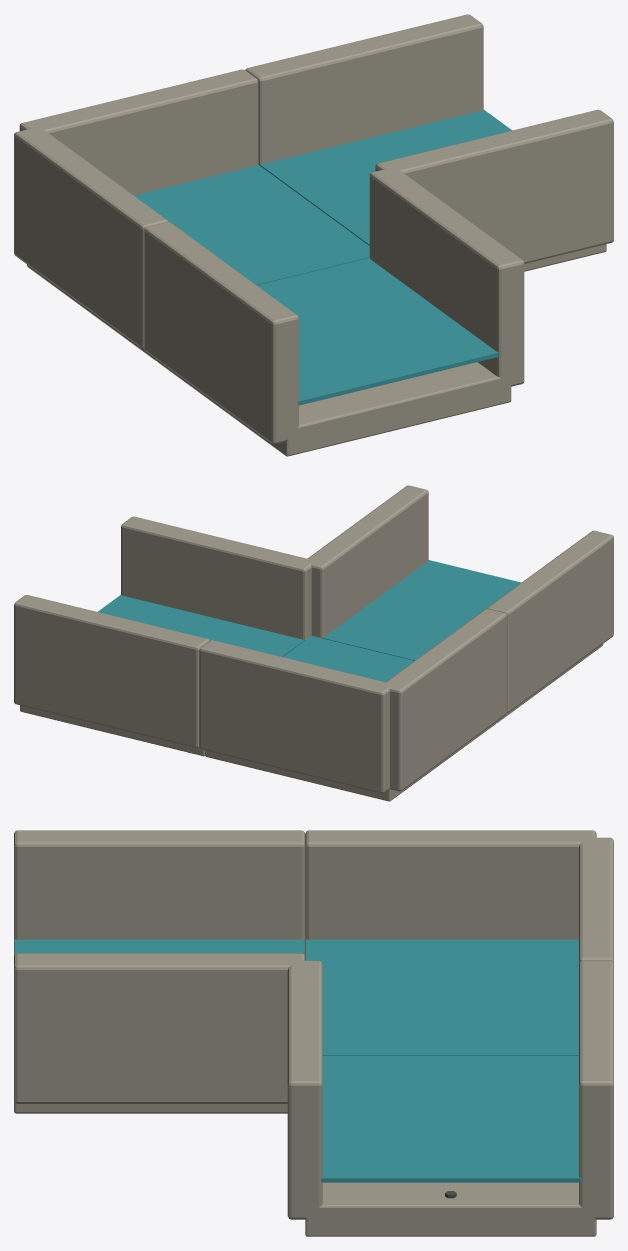
Rendered from Channel_Bend_Flowing.glb.
3 views of the same model, one above another, from view 1: azimuth 30°, elevation 25°; view 2: azimuth 150°, elevation 25°; view 3: azimuth 270°, elevation 25° (orthographic). The views are drawn at different scales.
Visible parts, largest first — view 1: Structure, Water; view 2: Structure, Water; view 3: Structure, Water.
Boxes of the visible parts, box(x1,y1,x2,y2) form: Structure: box(14, 14, 613, 456); Water: box(134, 110, 512, 405); Structure: box(14, 485, 613, 801); Water: box(98, 560, 521, 681); Structure: box(14, 830, 613, 1236); Water: box(14, 939, 580, 1182).
Size of the model in its own units: 4.12 by 1.17 by 4.12.
